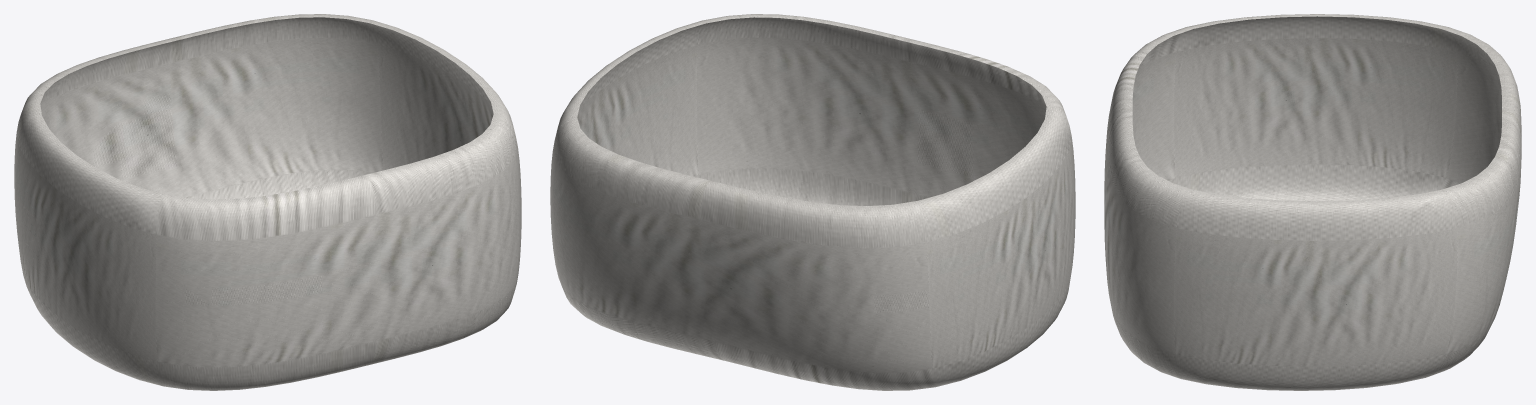
Rendered from topChildc4d.fbx.
3 renders of one model, left to right at view 1: azimuth 30°, elevation 25°; view 2: azimuth 150°, elevation 25°; view 3: azimuth 270°, elevation 25°, orthographic. The views are drawn at different scales.
Parts seen in each view (by area): view 1: topchild; view 2: topchild; view 3: topchild.
Part boxes in pixels (left/top/right/bottom): topchild: left=14, top=14, right=521, bottom=390; topchild: left=550, top=14, right=1075, bottom=390; topchild: left=1104, top=14, right=1521, bottom=390.
Size of the model in its own units: 18.97 by 8.07 by 16.29.
Materials: 1 (1 with a texture image).
